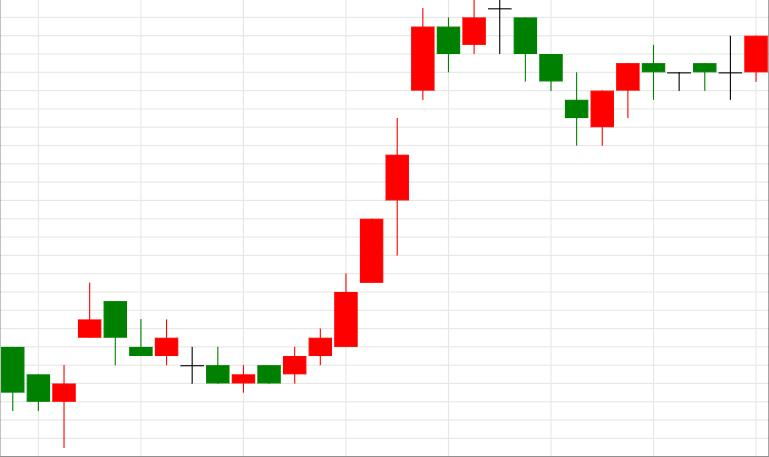evening_star_fall: (284, 1, 537, 383)
